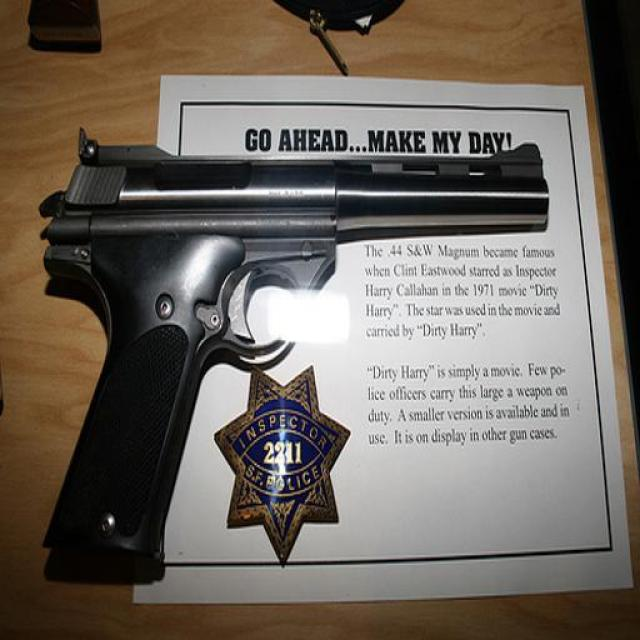pistol: (36, 123, 551, 581)
